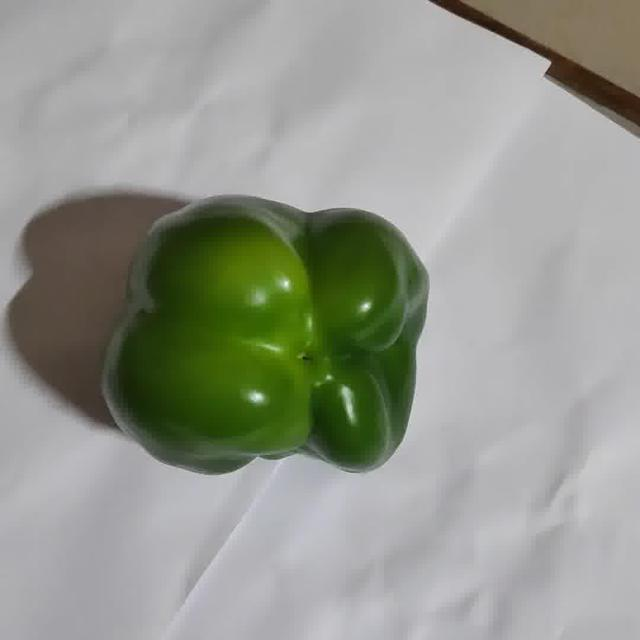Bell Pepper: (104, 198, 428, 474)
